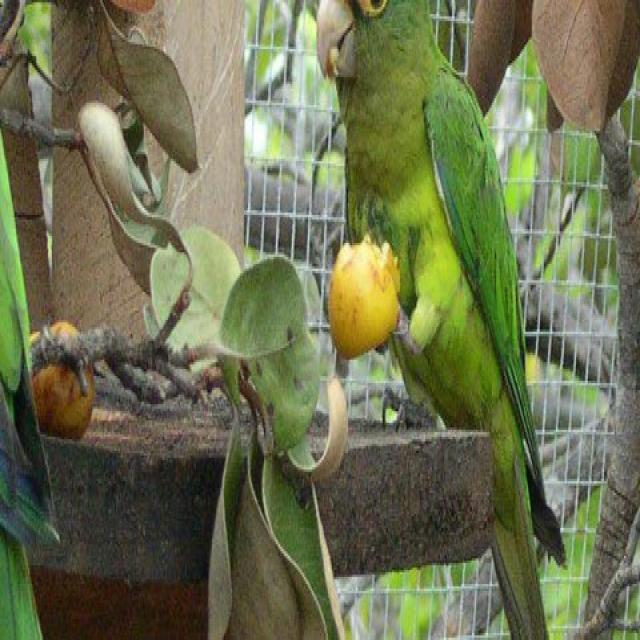Parrot: (316, 0, 546, 613)
